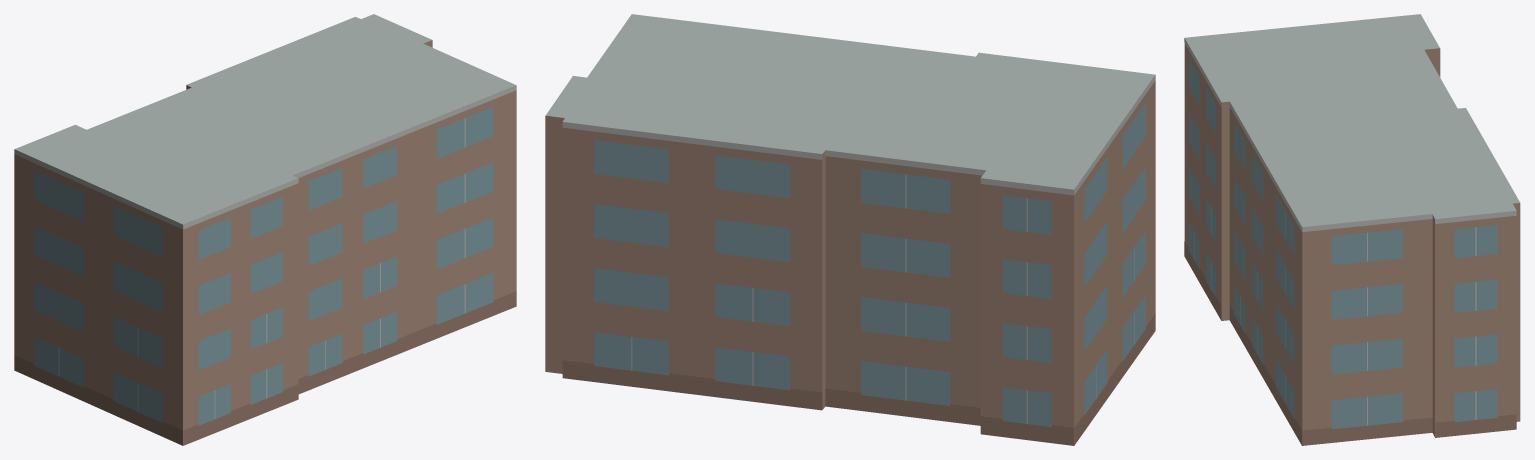
Rendered from survey-upis-32612829.glb.
3 views of the same model, side by side, from view 1: azimuth 30°, elevation 25°; view 2: azimuth 150°, elevation 25°; view 3: azimuth 270°, elevation 25° (orthographic). The views are drawn at different scales.
Parts seen in each view (by area): view 1: survey-upis-32612829.tmp; view 2: survey-upis-32612829.tmp; view 3: survey-upis-32612829.tmp.
Part boxes in pixels (x1,y1,x2,y2): survey-upis-32612829.tmp: [14, 14, 516, 445]; survey-upis-32612829.tmp: [545, 14, 1155, 445]; survey-upis-32612829.tmp: [1184, 14, 1520, 445].
Bounding box in the file's own units: 22.59 × 10.8 × 15.04.
